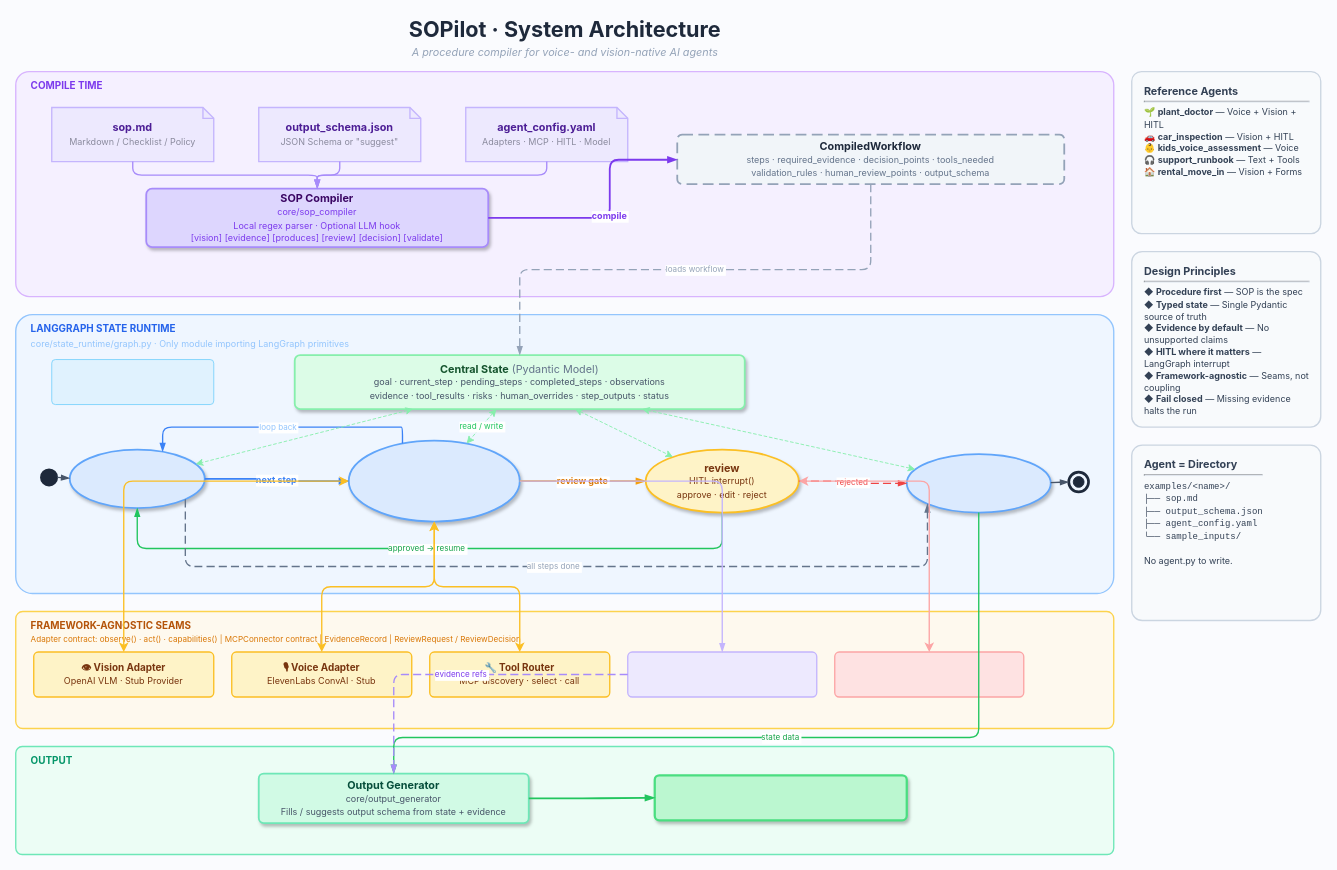
The diagram is 1337 pixels wide and 870 high, and some of its shapes have lost their labels. The shapes that lost their labels are listed below. From the top down, each one's centre as x and y in pixels, then its label:
At point 132,382: "SQLite Checkpointer Persists state across interrupt / resume cycles".
At point 138,480: "plan Pick next pending step".
At point 435,482: "execute Dispatch by modality Record evidence · Validate Apply decision branches".
At point 979,484: "finalize Fill output schema from state + evidence".
At point 722,674: "📋 Evidence Ledger Append-only · claim → evidence".
At point 929,674: "🛑 Human Review interrupt() + AutoApprovePolicy".
At point 781,798: "Structured Output Evidence-grounded JSON report · Audit trail".
